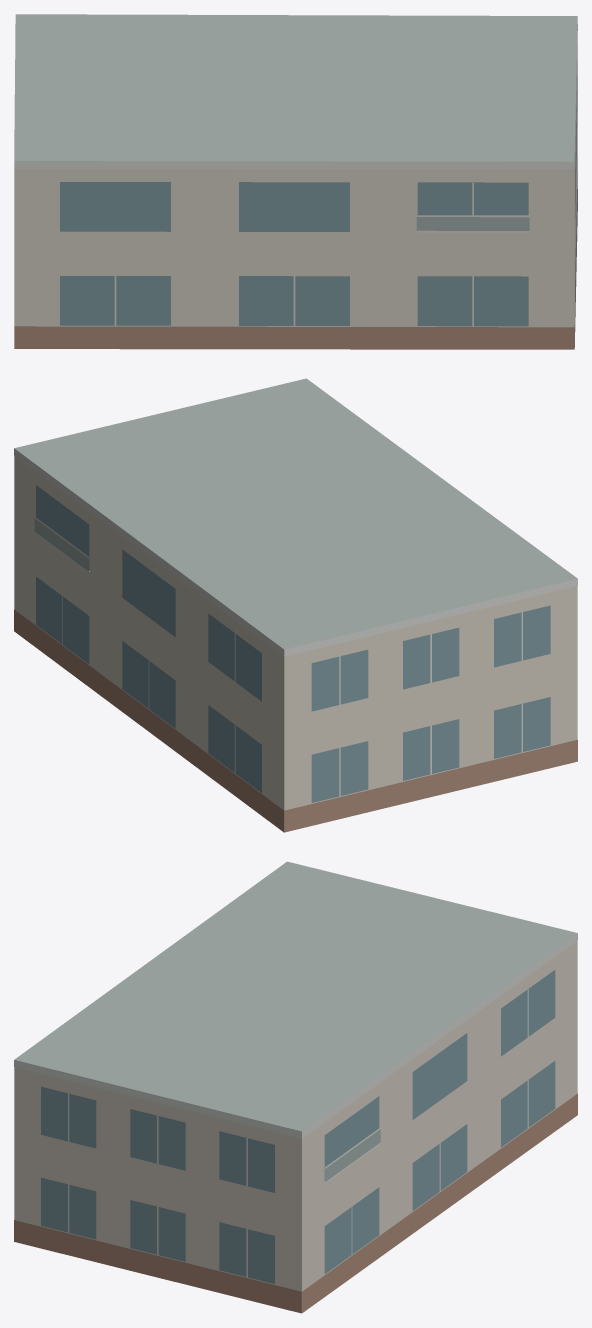
File: survey-upis-32846097.glb
3 renders of one model, top to bottom at view 1: azimuth 30°, elevation 25°; view 2: azimuth 150°, elevation 25°; view 3: azimuth 270°, elevation 25°, orthographic. The views are drawn at different scales.
Parts seen in each view (by area): view 1: survey-upis-32846097.tmp; view 2: survey-upis-32846097.tmp; view 3: survey-upis-32846097.tmp.
Boxes of the visible parts, <box> form: survey-upis-32846097.tmp: <box>14,14,577,349</box>; survey-upis-32846097.tmp: <box>14,378,577,832</box>; survey-upis-32846097.tmp: <box>14,861,577,1313</box>.
Size of the model in its own units: 19.42 by 6.1 by 17.13.
